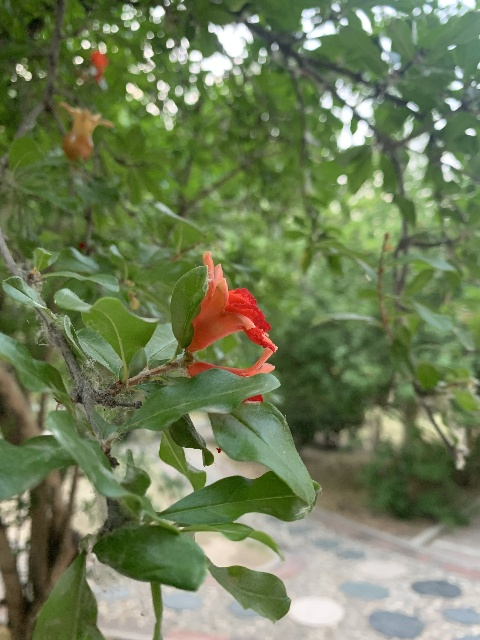early-fruit: (59, 103, 114, 161)
flower: (187, 249, 275, 356), (187, 347, 276, 403)
